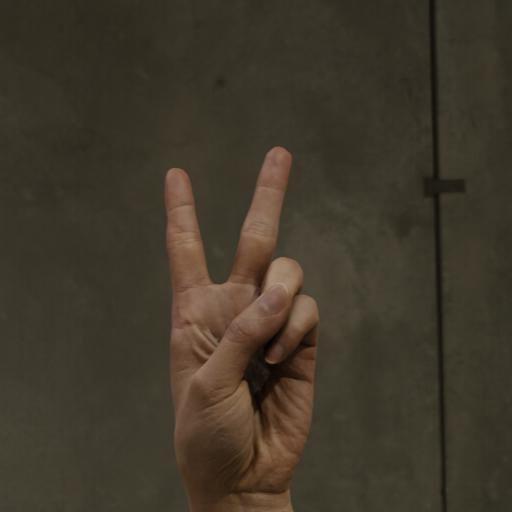V: (155, 137, 324, 512)
